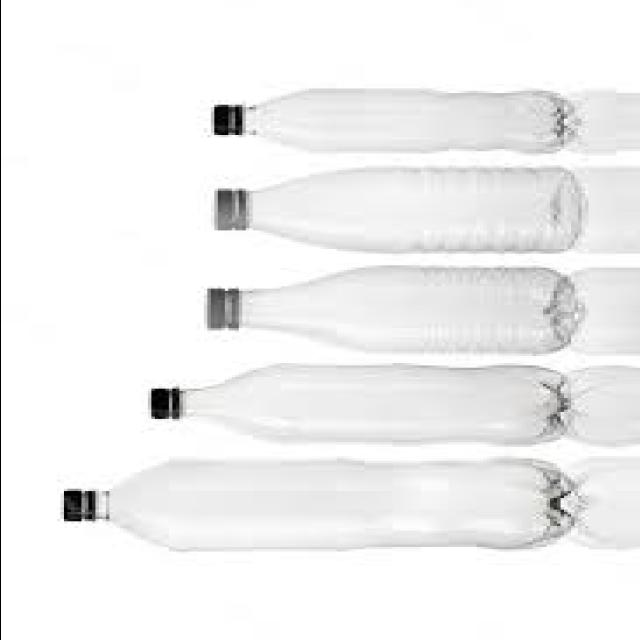plastic cup: (62, 460, 570, 550), (205, 266, 578, 354), (150, 365, 563, 444), (212, 167, 579, 253), (210, 89, 565, 153)
